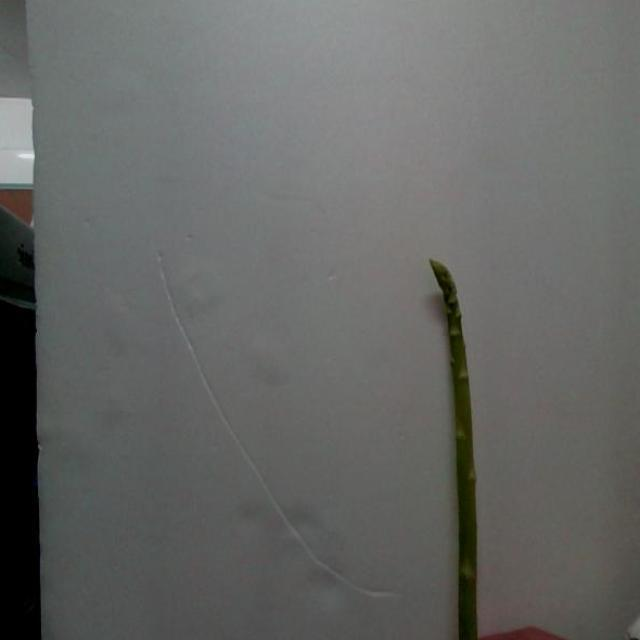aspargus: (431, 260, 482, 640)
